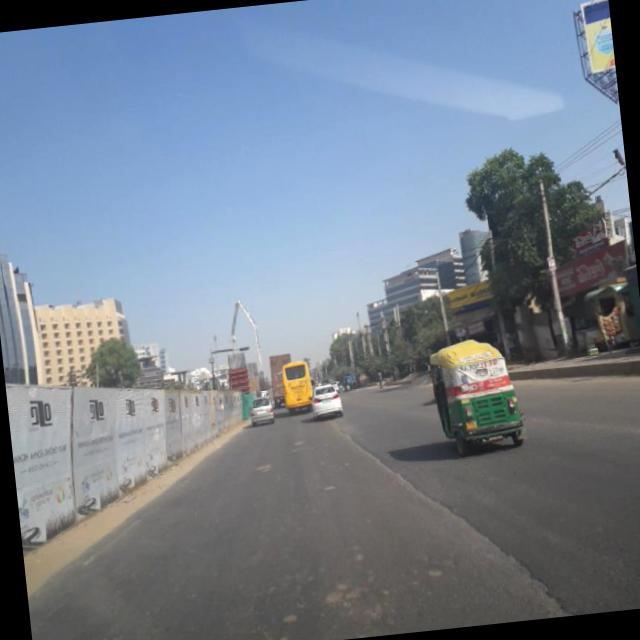pothole: (316, 401, 440, 510)
